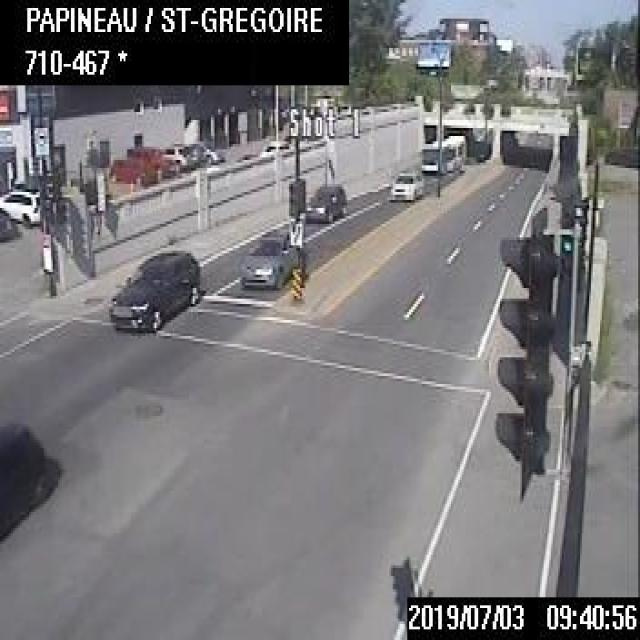bus: (418, 129, 467, 176)
vehicle: (109, 245, 200, 331), (0, 419, 58, 541), (240, 227, 293, 285), (0, 184, 47, 226), (104, 154, 156, 187), (302, 181, 345, 219), (151, 140, 192, 173), (388, 166, 420, 202), (193, 138, 222, 162)
